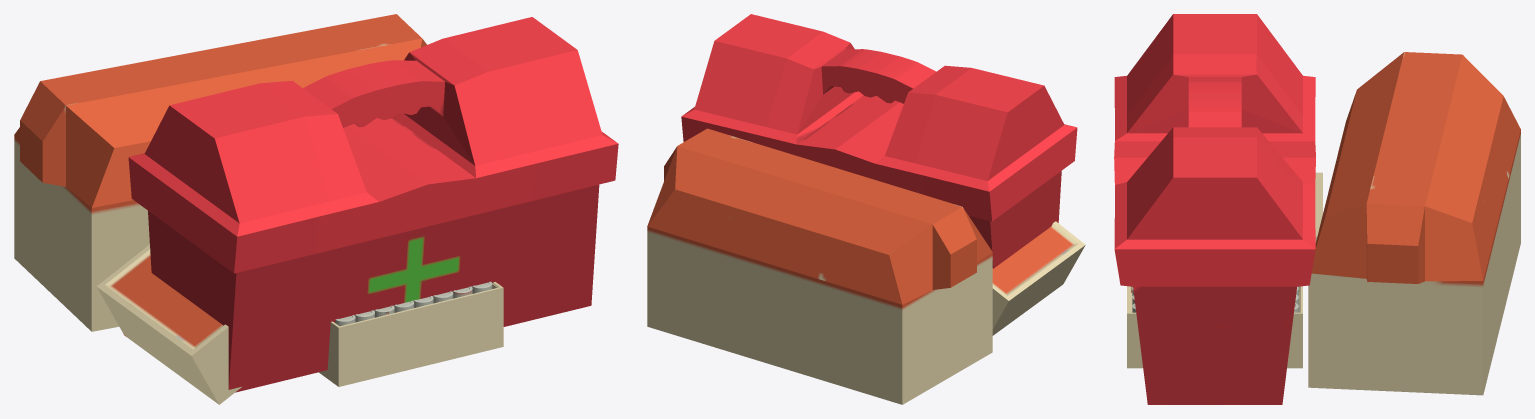
The model's file is Interactuables.fbx.
3 renders of one model, left to right at view 1: azimuth 30°, elevation 25°; view 2: azimuth 150°, elevation 25°; view 3: azimuth 270°, elevation 25°, orthographic. The views are drawn at different scales.
Parts seen in each view (by area): view 1: Botiquín, Munición; view 2: Munición, Botiquín; view 3: Botiquín, Munición.
Boxes of the visible parts, x1,y1,x2,y2 form: Botiquín: (128, 17, 618, 392); Munición: (14, 14, 503, 404); Munición: (647, 128, 1085, 404); Botiquín: (681, 14, 1077, 268); Botiquín: (1114, 14, 1315, 404); Munición: (1127, 52, 1520, 395).
Size of the model in its own units: 506 by 296 by 462.
